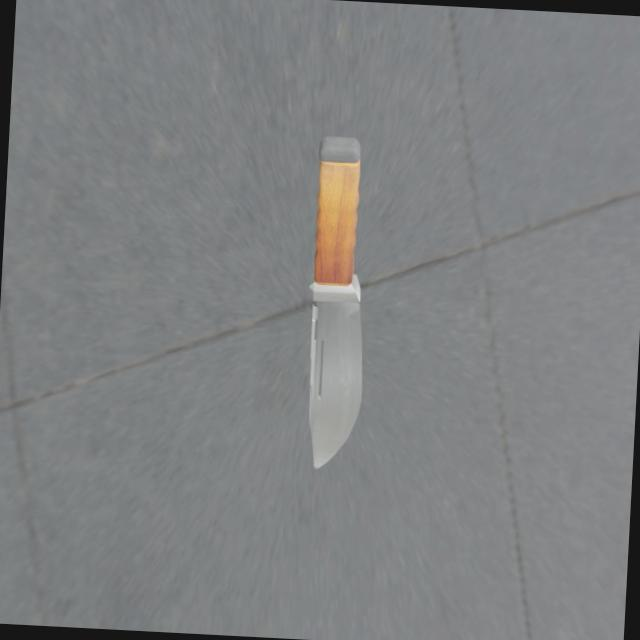knife: (309, 160, 362, 298)
